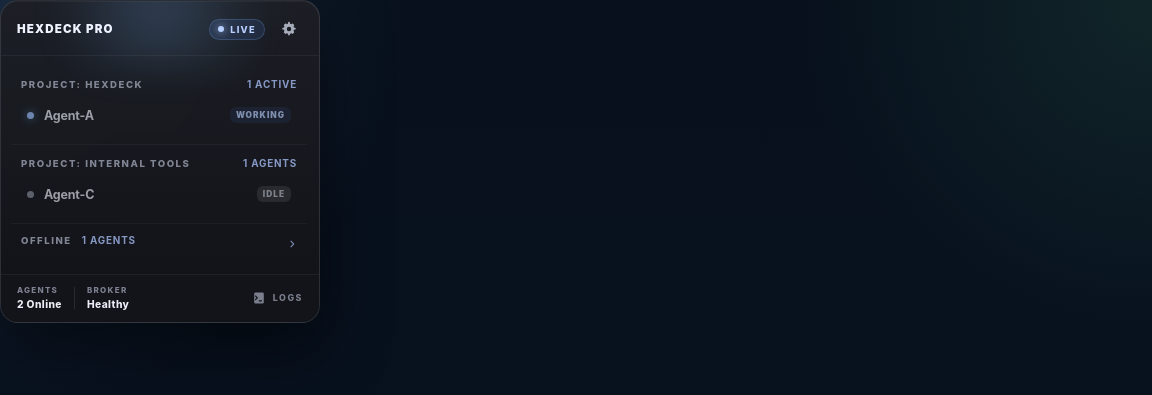
Scenario: PanelRoute › shows online agents in project groups and keeps offline agents collapsed in a separate section by default
Check: the text "Project: HexDeck" is shown, box [21,78,143,90]
Check: the text "Project: Internal Tools" is shown, box [21,158,190,168]
Click the button with aria-label "Show offline agents" at (46, 240), box [17,234,301,254]
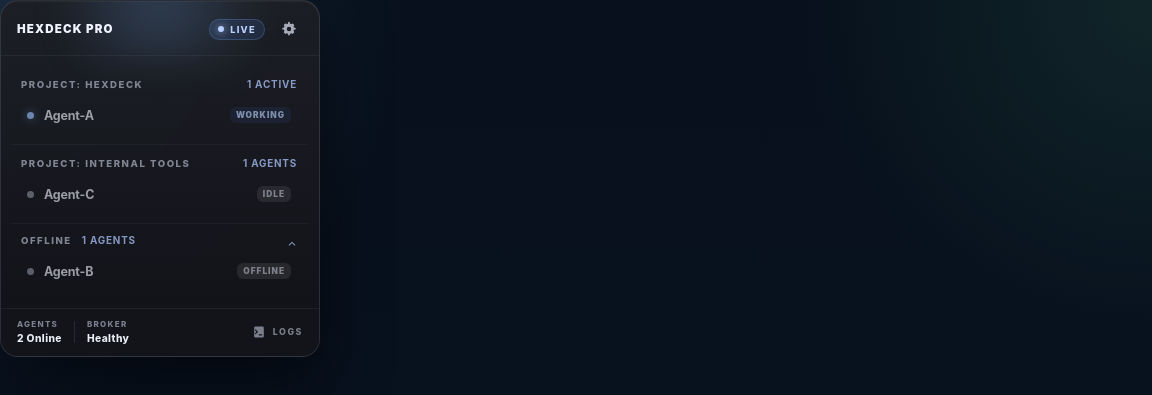
Check: the text "Agent-B" is shown, box [44,264,93,278]
Check: the text "offline" is shown, box [237,263,291,279]
Check: the button with aria-label "Hide offline agents" is shown, box [17,234,301,254]
